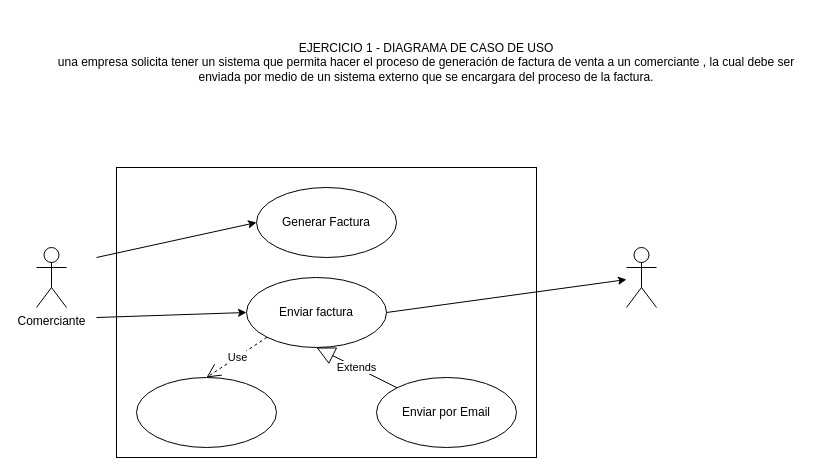
Image size: 823x475. Some labels were removed from this diagram. Here are the shapes that lost their labels. From the top down, the centre of each, then its label:
At (x=641, y=277): "Sistema externo".
At (x=206, y=412): "Buscar factura".
